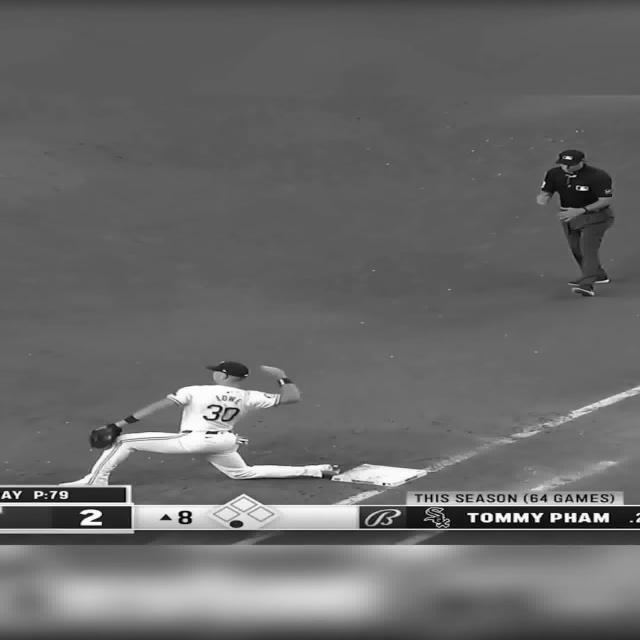base: (331, 464, 427, 488)
baseball_glove: (89, 424, 122, 449)
shoe: (305, 464, 340, 478), (569, 282, 596, 296), (593, 278, 611, 284), (567, 279, 578, 286)
